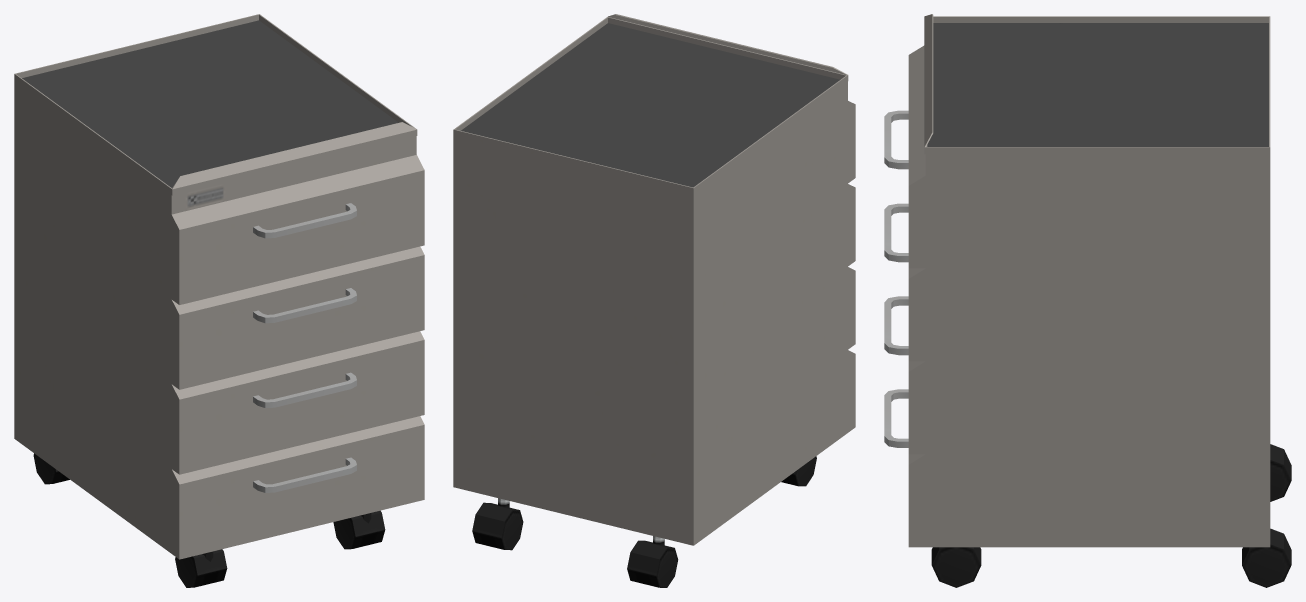
File: lab table.fbx
3 views of the same model, side by side, from view 1: azimuth 30°, elevation 25°; view 2: azimuth 150°, elevation 25°; view 3: azimuth 270°, elevation 25° (orthographic). The views are drawn at different scales.
Visible parts, largest first — view 1: 1-_props_cabinet_mat, 2-_props_cabinet_draw, 3-_props_cabinet_whee, 4-_props_cabinet_whee, 6-_props_cabinet_whee; view 2: 1-_props_cabinet_mat, 2-_props_cabinet_draw, 6-_props_cabinet_whee, 5-_props_cabinet_whee; view 3: 1-_props_cabinet_mat, 2-_props_cabinet_draw, 5-_props_cabinet_whee, 4-_props_cabinet_whee, 6-_props_cabinet_whee.
Part boxes in pixels (x1,y1,x2,y2): 1-_props_cabinet_mat: [14, 14, 417, 553]; 2-_props_cabinet_draw: [171, 155, 424, 559]; 3-_props_cabinet_whee: [175, 549, 227, 587]; 4-_props_cabinet_whee: [333, 510, 385, 549]; 6-_props_cabinet_whee: [33, 453, 69, 484]; 1-_props_cabinet_mat: [453, 14, 848, 545]; 2-_props_cabinet_draw: [848, 101, 855, 432]; 6-_props_cabinet_whee: [627, 536, 678, 587]; 5-_props_cabinet_whee: [472, 498, 523, 550]; 1-_props_cabinet_mat: [924, 14, 1270, 547]; 2-_props_cabinet_draw: [884, 45, 925, 547]; 5-_props_cabinet_whee: [1242, 528, 1291, 587]; 4-_props_cabinet_whee: [931, 547, 981, 587]; 6-_props_cabinet_whee: [1270, 444, 1291, 501].
Size of the model in its own units: 0.45 by 0.7437 by 0.5906.
3 materials, 3 textured.
